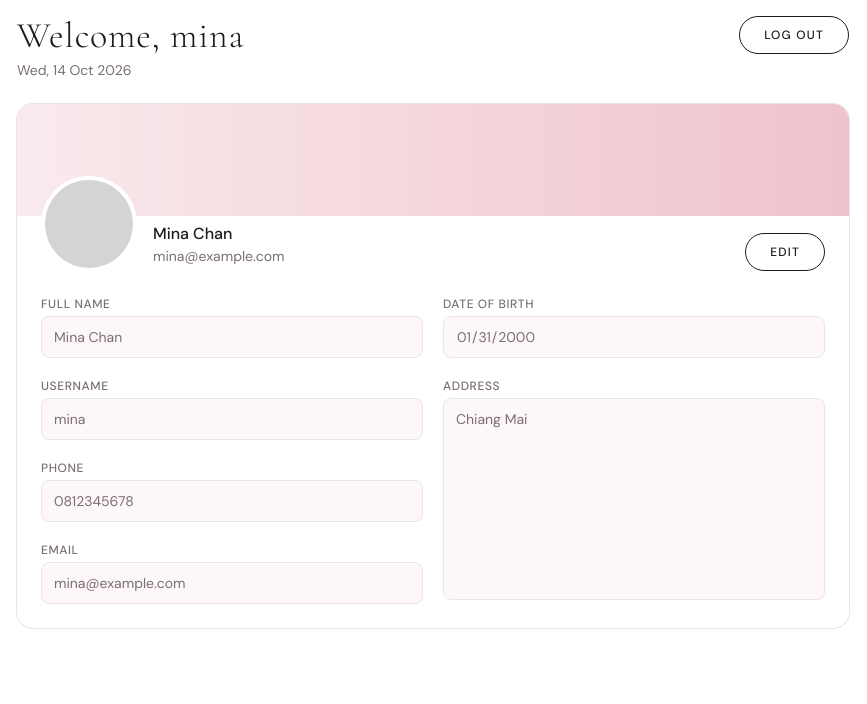
Test: ProfileView › enters edit mode, saves changes and returns to read-only
Click the button "Edit" at (785, 252), box 745,233 -> 825,271
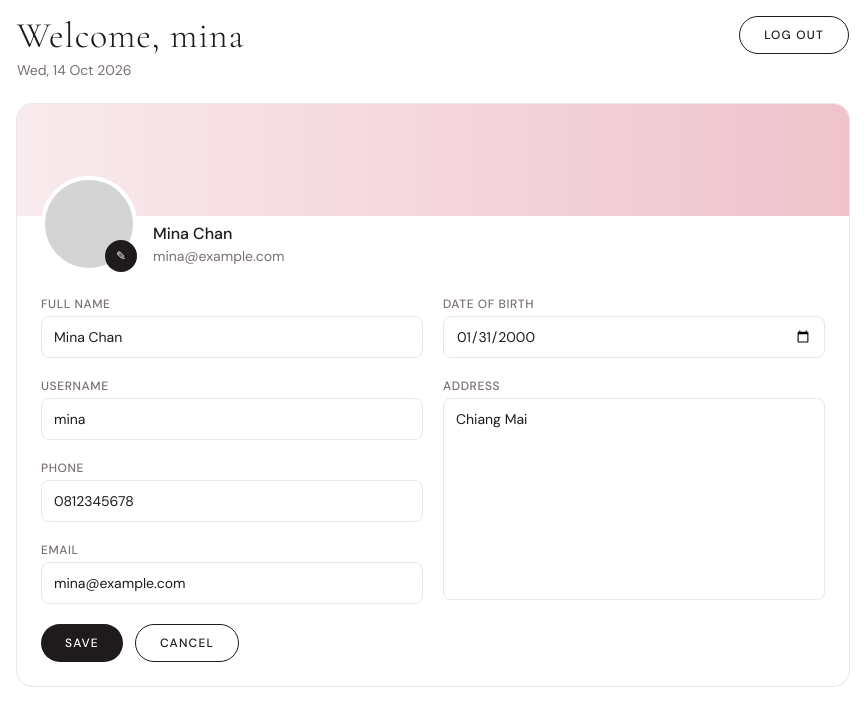
Replace the text in the field with id "fullName" with "Mina C." at (232, 337), box 41,316 -> 423,358
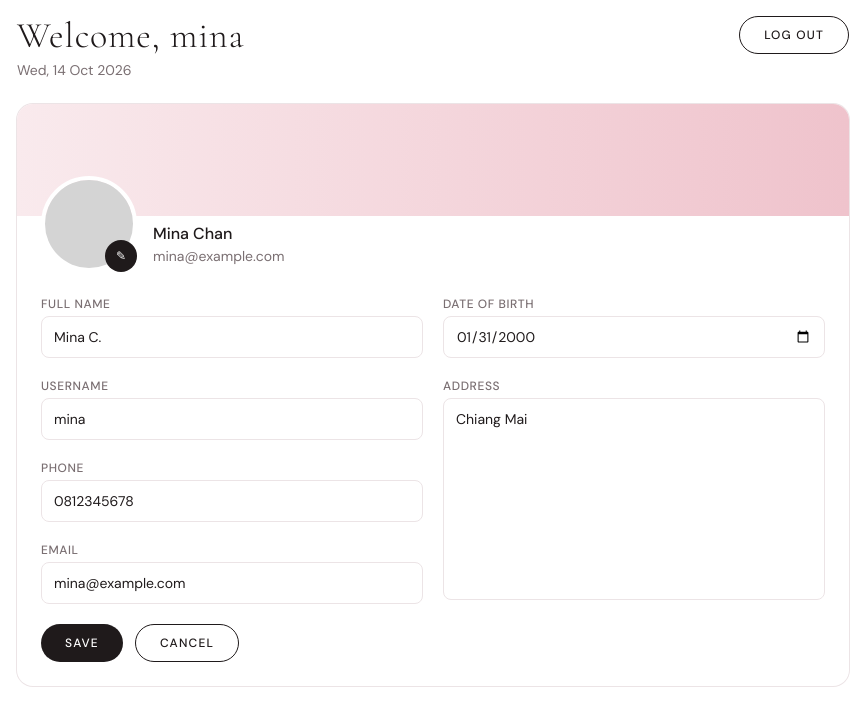
Replace the text in the field labelled "Phone" with "0999999999" at (232, 501), box 41,480 -> 423,522
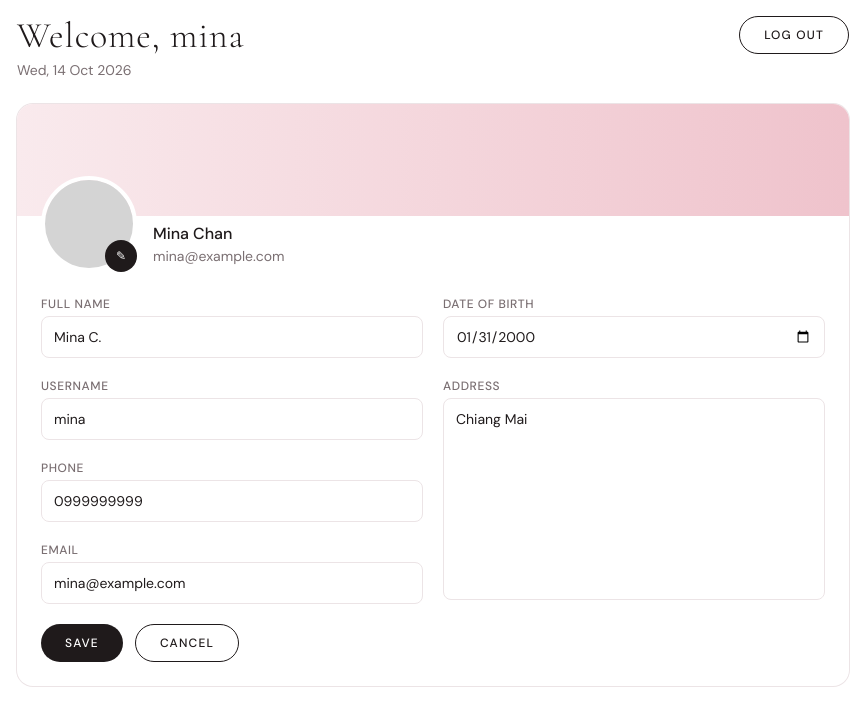
Submit the form, box 17,272 -> 849,686
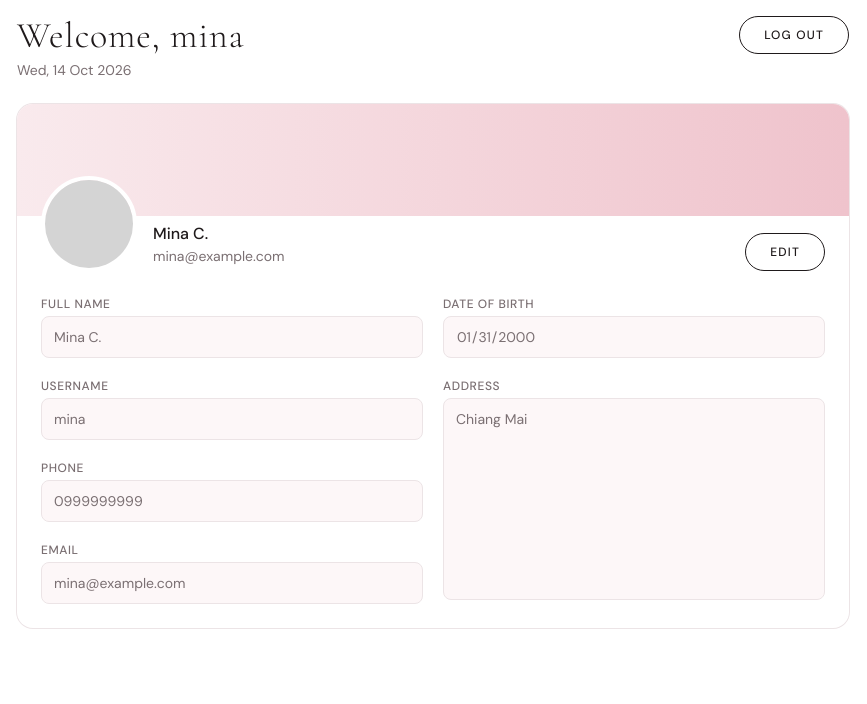
Result: the text "Mina C." is shown at 153,223 -> 208,244
